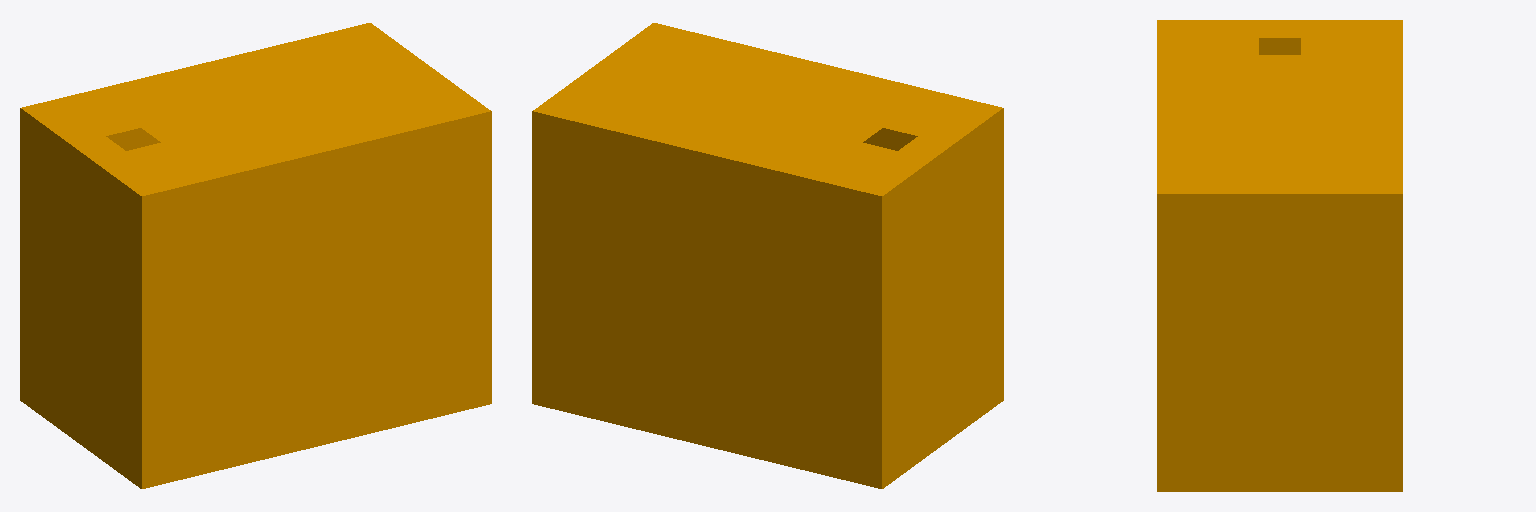
URDF robot description (oil-res-simple-orig.off):
<?xml version="1.0"?>
<robot name="oil-res-simple-orig.off">
	<link name="oil-res-simple-orig.off">
		<inertial>
			<!--origin xyz="0 0 0" rpy="0 0 0" /-->
			<mass value="0.5" />
			<!--inertia ixx="0.000360" ixy="0" ixz="0" iyy="0.0000615" iyz="0" izz="0.00036" /-->
		</inertial>
    		<visual>
	      		<!--origin rpy="0 0 0" xyz="0 0 0"/-->
      			<geometry>
        			<mesh filename="oil-res-simple-orig.off.obj"/>
      			</geometry>
         	</visual>
    		<collision>
      			<!--origin rpy="0 0 0" xyz="0 0 0"/-->
      			<geometry>
        			<mesh filename="oil-res-simple-orig.off.obj"/>
      			</geometry>
    		</collision>
	</link>
</robot>

--- What the picture shows (computed from the rendered views, not written in the file) ---
Views: 3 orthographic renders of the robot side by side, from view 1: azimuth 30°, elevation 25°; view 2: azimuth 150°, elevation 25°; view 3: azimuth 270°, elevation 25°.
Robot: oil-res-simple-orig.off — 1 links, 0 joints (none); root link oil-res-simple-orig.off; default pose: all joints at 0.
Visible links, largest first — view 1: oil-res-simple-orig.off; view 2: oil-res-simple-orig.off; view 3: oil-res-simple-orig.off.
Boxes of the visible links, x1,y1,x2,y2 form: oil-res-simple-orig.off: (20,23,491,488); oil-res-simple-orig.off: (532,23,1003,488); oil-res-simple-orig.off: (1157,20,1402,491).
Bounding box of the posed robot: 5 × 3 × 4 m (x, y, z).
1 mesh visuals loaded from 1 distinct referenced files (1 OBJ).